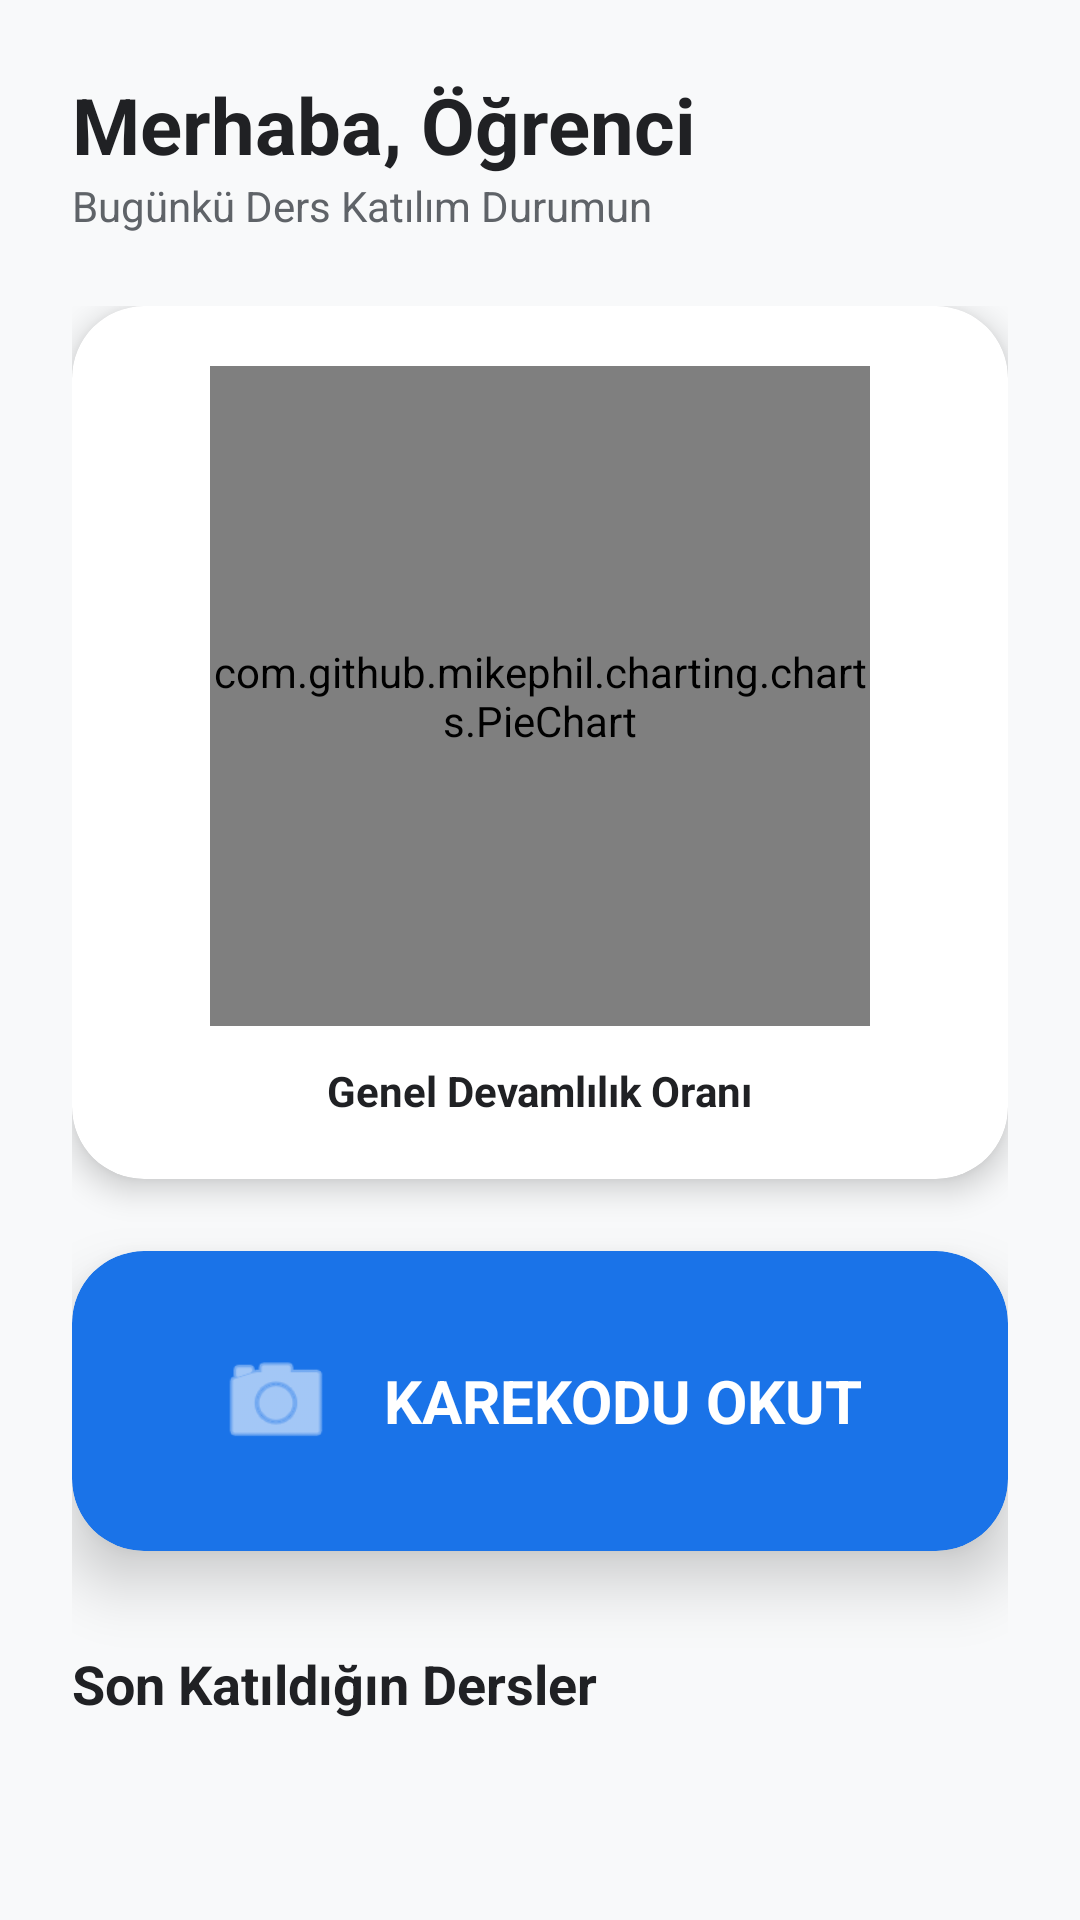

Icon bounding boxes for this 1080*1920 phone screenshot, format [x1, y1, x2, y2]:
camera: [230, 1362, 322, 1436]
